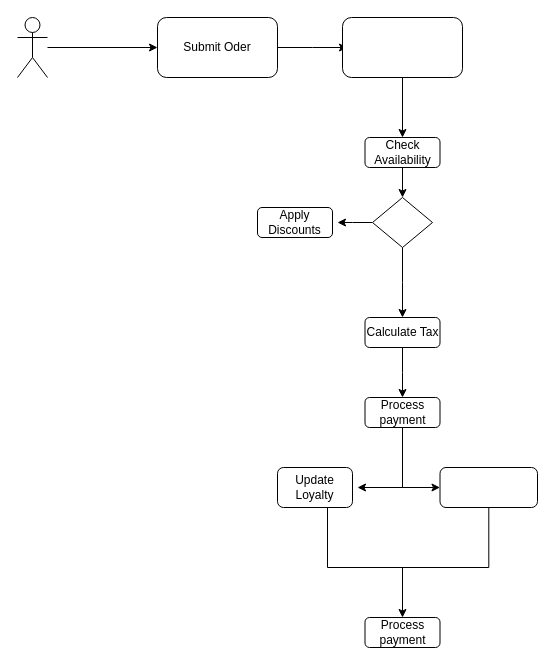
This 555x665 diagram has some shape labels left out. The shapes that lost their labels are listed below. From the top down, each one's centre as x and y in pixels, then its label:
At point (32, 47): "Actor".
At point (402, 47): "Order Orchestrator".
At point (402, 222): "Coupon".
At point (488, 487): "Generate Personalized Marketing".
